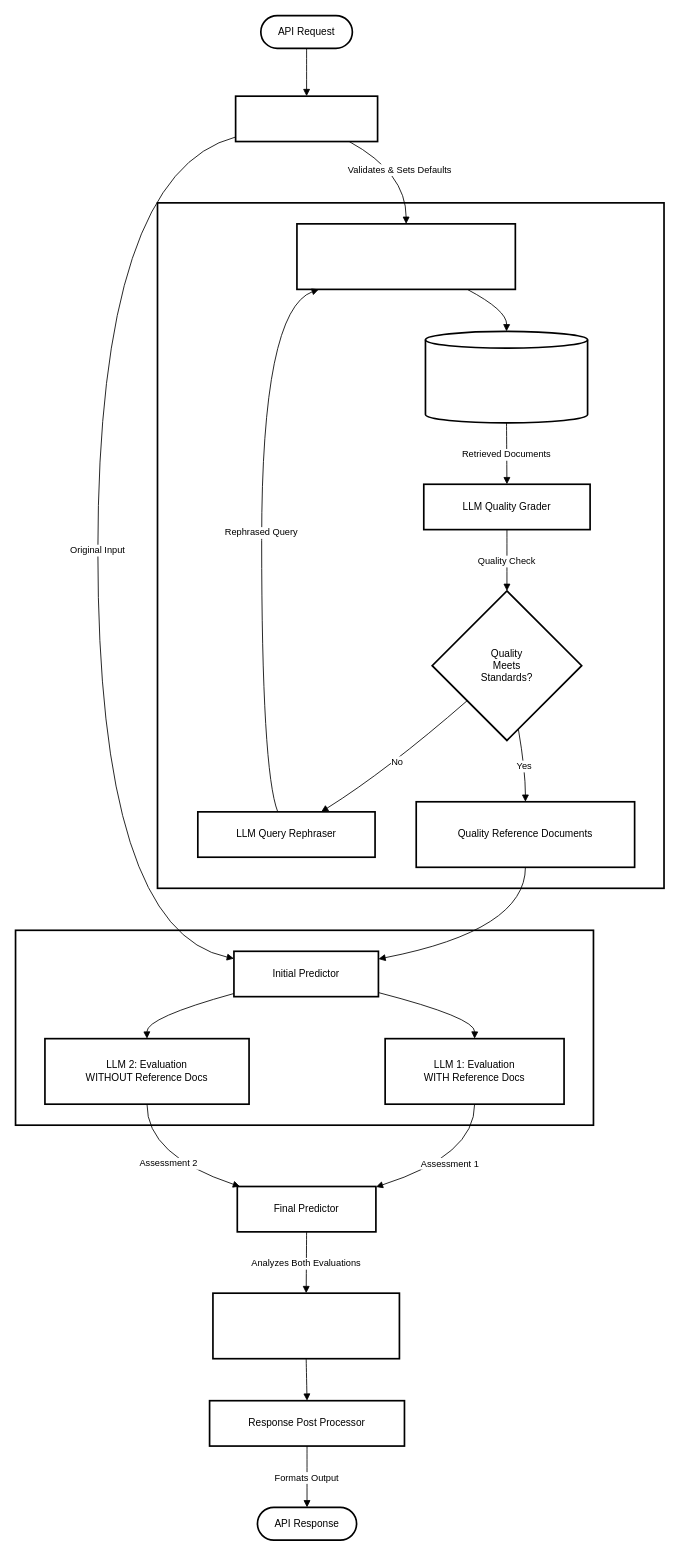
The diagram is 679 pixels wide and 1555 high, and some of its shapes have lost their labels. Each missing label, with the box of its shape:
Dual LLM Evaluation: (14, 929, 594, 1126)
Final Assessment + Detailed Explanation: (212, 1292, 400, 1359)
Input Processor: (234, 95, 378, 142)
Iterative Document Retrieval Loop: (156, 202, 664, 889)
Knowledge Base OpenSearch Vector Store: (424, 330, 588, 423)
Reference Document Retriever: (296, 223, 516, 290)
